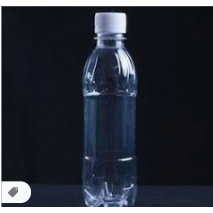Bottle: (81, 12, 138, 206)
